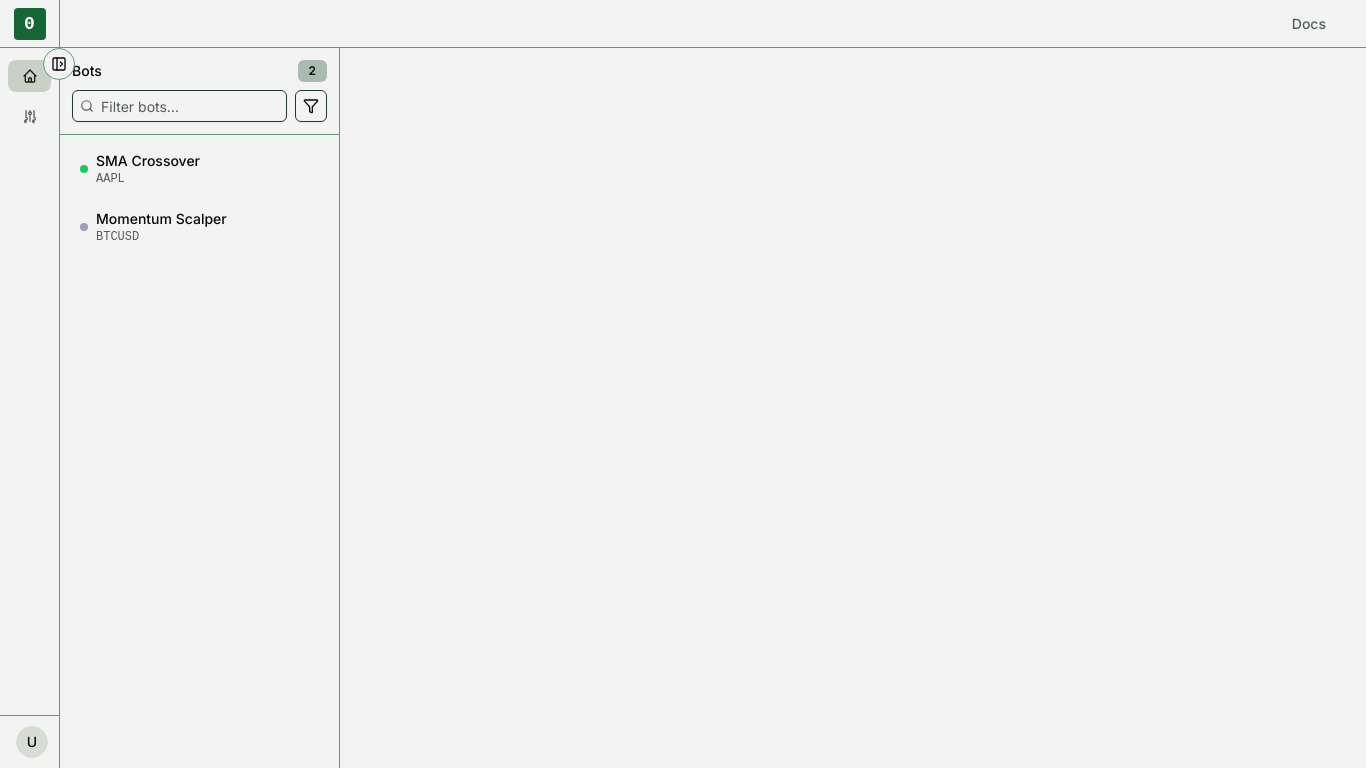
Test: dashboard layout › desktop sidebar › filters by type and status from the filter menu
Step 1. Click the button named "Filter bots" → (311, 106), box [295, 90, 327, 122]
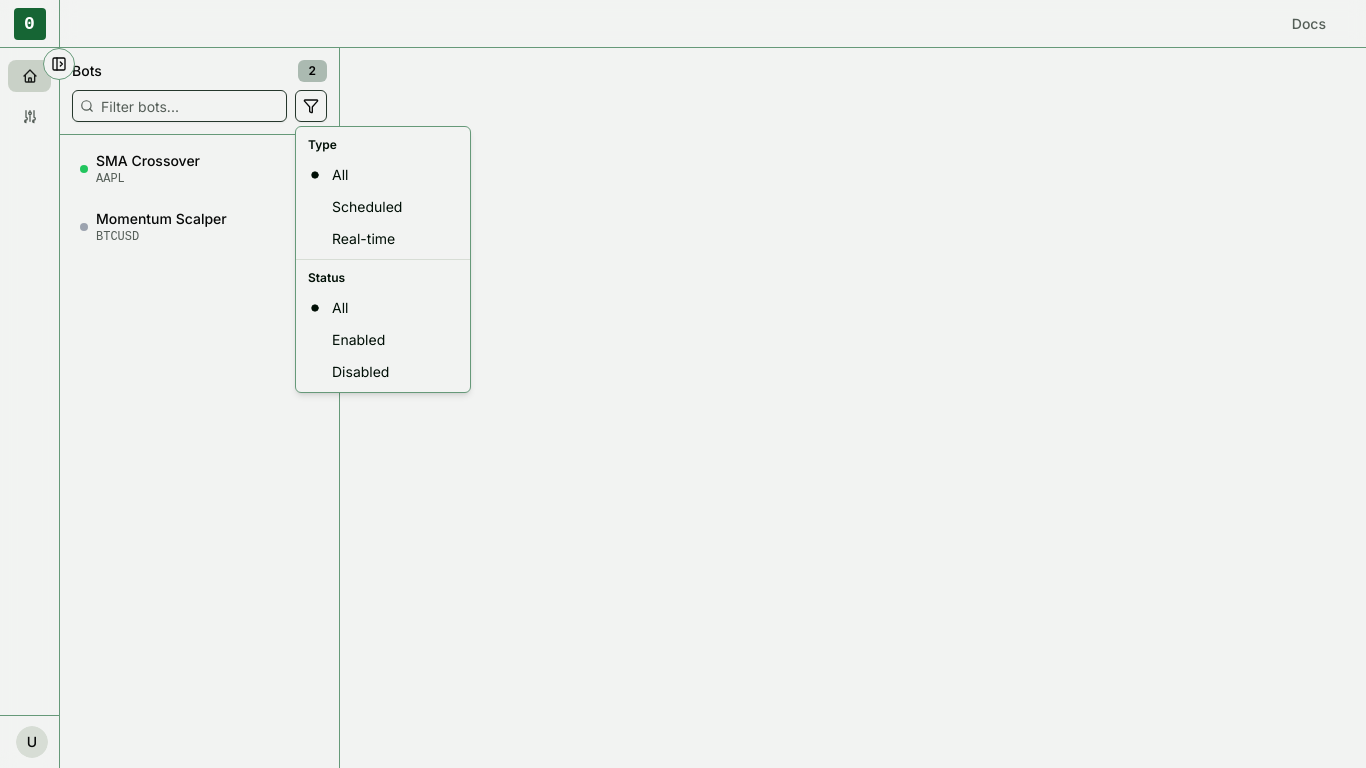
Step 2. Click the menu item "Disabled" → (361, 372), box [332, 363, 390, 380]
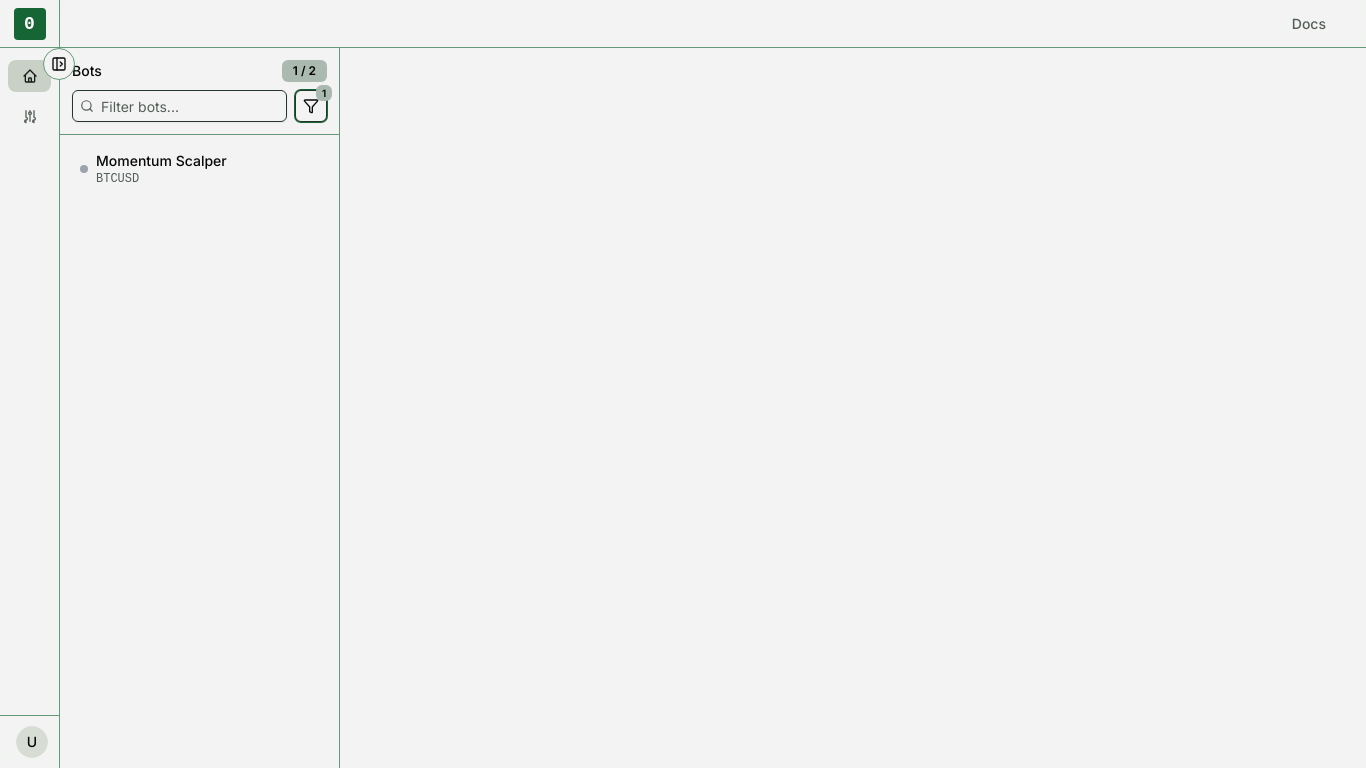
Expected: the text "1 / 2" is shown, [282, 60, 327, 82]
Expected: the button named "Filter bots (1 active)" is shown, [295, 90, 327, 122]
Expected: the button "SMA Crossover" is gone
